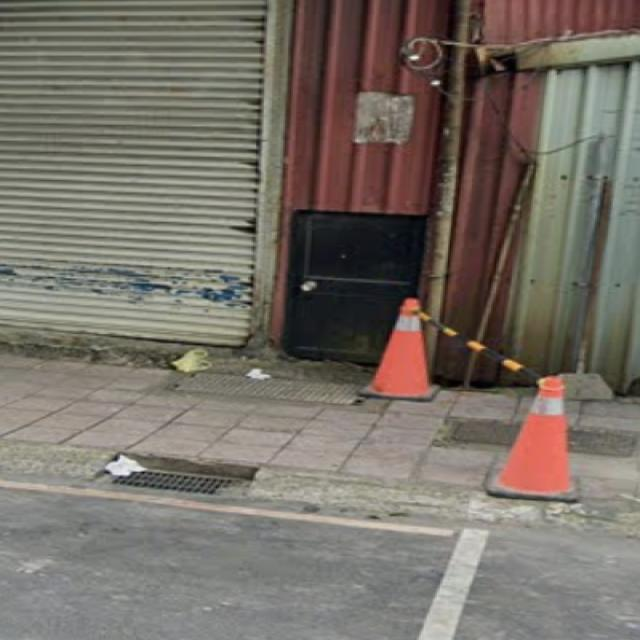cone: (366, 284, 461, 421), (498, 369, 580, 510)
